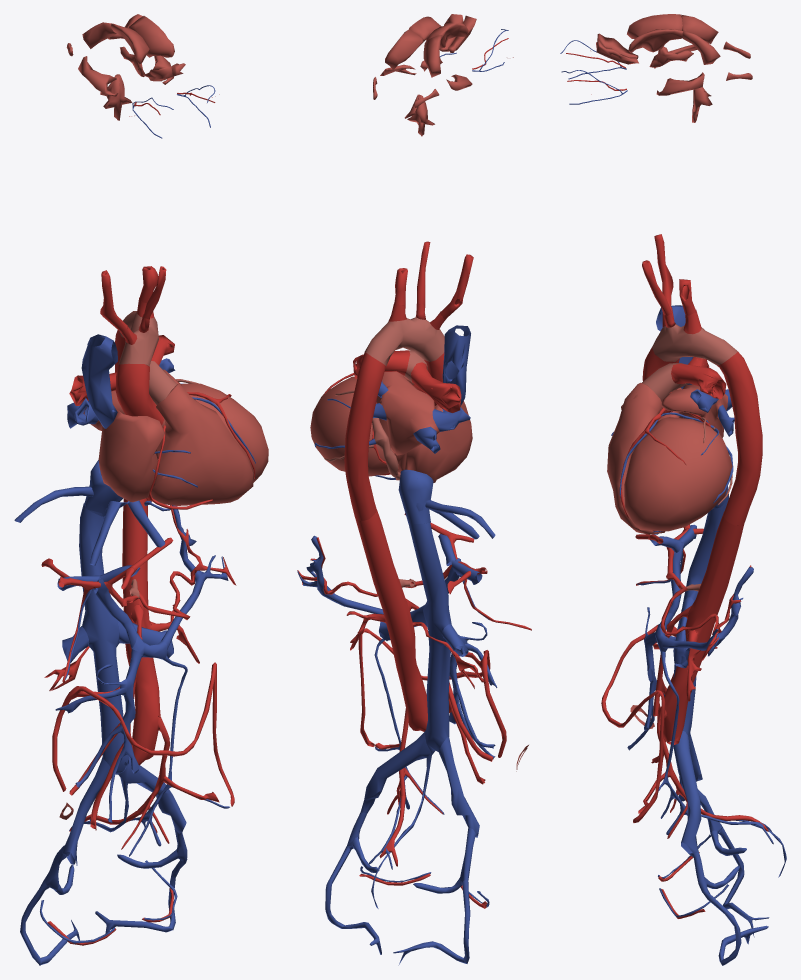
The model's file is adult_female.cardiovascular.LOD3.glb.
3 views of the same model, side by side, from view 1: azimuth 30°, elevation 25°; view 2: azimuth 150°, elevation 25°; view 3: azimuth 270°, elevation 25° (orthographic). The views are drawn at different scales.
Visible parts, largest first — view 1: ADULT.FEMALE.CARDIOVASCULAR.RIGHT_VENTRICLE, ADULT.FEMALE.CARDIOVASCULAR.INFERIOR_VENA_CAVA_B, ADULT.FEMALE.CARDIOVASCULAR.DESCENDING_AORTA_B, ADULT.FEMALE.CARDIOVASCULAR.RIGHT_CARDIAC_ATRIUM, ADULT.FEMALE.CARDIOVASCULAR.LEFT_VENTRICLE, ADULT.FEMALE.CARDIOVASCULAR.SUPERIOR_VENA_CAVA, ADULT.FEMALE.CARDIOVASCULAR.MARGINAL_ARTERY_OF_DRUMMOND, ADULT.FEMALE.CARDIOVASCULAR.ASCENDING_AORTA, ADULT.FEMALE.CARDIOVASCULAR.SPLENIC_VEIN, ADULT.FEMALE.CARDIOVASCULAR.ANTERIOR_HORN_OF_LATERAL_VENTRIC (×2), ADULT.FEMALE.CARDIOVASCULAR.AORTIC_ARCH, ADULT.FEMALE.CARDIOVASCULAR.COMMON_ILIAC_VEIN.L (+15 smaller); view 2: ADULT.FEMALE.CARDIOVASCULAR.DESCENDING_AORTA_B, ADULT.FEMALE.CARDIOVASCULAR.INFERIOR_VENA_CAVA_B, ADULT.FEMALE.CARDIOVASCULAR.DESCENDING_AORTA_A, ADULT.FEMALE.CARDIOVASCULAR.LEFT_CARDIAC_ATRIUM, ADULT.FEMALE.CARDIOVASCULAR.LEFT_VENTRICLE, ADULT.FEMALE.CARDIOVASCULAR.RIGHT_CARDIAC_ATRIUM, ADULT.FEMALE.CARDIOVASCULAR.AORTIC_ARCH, ADULT.FEMALE.CARDIOVASCULAR.INFERIOR_VENA_CAVA_A, ADULT.FEMALE.CARDIOVASCULAR.COMMON_ILIAC_VEIN.L, ADULT.FEMALE.CARDIOVASCULAR.SUPERIOR_VENA_CAVA, ADULT.FEMALE.CARDIOVASCULAR.MARGINAL_ARTERY_OF_DRUMMOND, ADULT.FEMALE.CARDIOVASCULAR.PULMONARY_ARTERY.R (+11 smaller); view 3: ADULT.FEMALE.CARDIOVASCULAR.LEFT_VENTRICLE, ADULT.FEMALE.CARDIOVASCULAR.DESCENDING_AORTA_B, ADULT.FEMALE.CARDIOVASCULAR.DESCENDING_AORTA_A, ADULT.FEMALE.CARDIOVASCULAR.RIGHT_VENTRICLE, ADULT.FEMALE.CARDIOVASCULAR.AORTIC_ARCH, ADULT.FEMALE.CARDIOVASCULAR.INFERIOR_VENA_CAVA_B, ADULT.FEMALE.CARDIOVASCULAR.COMMON_ILIAC_VEIN.L, ADULT.FEMALE.CARDIOVASCULAR.ANTERIOR_HORN_OF_LATERAL_VENTRIC (×2), ADULT.FEMALE.CARDIOVASCULAR.MARGINAL_ARTERY_OF_DRUMMOND, ADULT.FEMALE.CARDIOVASCULAR.SPLENIC_VEIN, ADULT.FEMALE.CARDIOVASCULAR.LEFT_CARDIAC_ATRIUM, ADULT.FEMALE.CARDIOVASCULAR.PULMONARY_ARTERY.L (+13 smaller).
Part boxes in pixels (left/top/right/bottom): ADULT.FEMALE.CARDIOVASCULAR.RIGHT_VENTRICLE: left=148, top=384, right=253, bottom=505; ADULT.FEMALE.CARDIOVASCULAR.INFERIOR_VENA_CAVA_B: left=79, top=503, right=129, bottom=774; ADULT.FEMALE.CARDIOVASCULAR.DESCENDING_AORTA_B: left=122, top=498, right=160, bottom=765; ADULT.FEMALE.CARDIOVASCULAR.RIGHT_CARDIAC_ATRIUM: left=98, top=408, right=164, bottom=502; ADULT.FEMALE.CARDIOVASCULAR.LEFT_VENTRICLE: left=181, top=383, right=268, bottom=482; ADULT.FEMALE.CARDIOVASCULAR.SUPERIOR_VENA_CAVA: left=81, top=334, right=117, bottom=428; ADULT.FEMALE.CARDIOVASCULAR.MARGINAL_ARTERY_OF_DRUMMOND: left=52, top=662, right=234, bottom=806; ADULT.FEMALE.CARDIOVASCULAR.ASCENDING_AORTA: left=115, top=363, right=163, bottom=424; ADULT.FEMALE.CARDIOVASCULAR.SPLENIC_VEIN: left=132, top=505, right=228, bottom=659; ADULT.FEMALE.CARDIOVASCULAR.ANTERIOR_HORN_OF_LATERAL_VENTRIC (×2): left=110, top=16, right=174, bottom=64; ADULT.FEMALE.CARDIOVASCULAR.AORTIC_ARCH: left=118, top=311, right=158, bottom=366; ADULT.FEMALE.CARDIOVASCULAR.COMMON_ILIAC_VEIN.L: left=118, top=757, right=186, bottom=833; ADULT.FEMALE.CARDIOVASCULAR.DESCENDING_AORTA_B: left=355, top=509, right=427, bottom=731; ADULT.FEMALE.CARDIOVASCULAR.INFERIOR_VENA_CAVA_B: left=408, top=522, right=451, bottom=752; ADULT.FEMALE.CARDIOVASCULAR.DESCENDING_AORTA_A: left=344, top=352, right=385, bottom=520; ADULT.FEMALE.CARDIOVASCULAR.LEFT_CARDIAC_ATRIUM: left=376, top=371, right=439, bottom=455; ADULT.FEMALE.CARDIOVASCULAR.LEFT_VENTRICLE: left=310, top=376, right=394, bottom=476; ADULT.FEMALE.CARDIOVASCULAR.RIGHT_CARDIAC_ATRIUM: left=394, top=401, right=472, bottom=482; ADULT.FEMALE.CARDIOVASCULAR.AORTIC_ARCH: left=364, top=317, right=444, bottom=365; ADULT.FEMALE.CARDIOVASCULAR.INFERIOR_VENA_CAVA_A: left=398, top=469, right=433, bottom=523; ADULT.FEMALE.CARDIOVASCULAR.COMMON_ILIAC_VEIN.L: left=360, top=730, right=430, bottom=812; ADULT.FEMALE.CARDIOVASCULAR.SUPERIOR_VENA_CAVA: left=442, top=325, right=470, bottom=411; ADULT.FEMALE.CARDIOVASCULAR.MARGINAL_ARTERY_OF_DRUMMOND: left=358, top=628, right=506, bottom=757; ADULT.FEMALE.CARDIOVASCULAR.PULMONARY_ARTERY.R: left=411, top=362, right=461, bottom=412; ADULT.FEMALE.CARDIOVASCULAR.LEFT_VENTRICLE: left=624, top=417, right=732, bottom=531; ADULT.FEMALE.CARDIOVASCULAR.DESCENDING_AORTA_B: left=663, top=512, right=744, bottom=744; ADULT.FEMALE.CARDIOVASCULAR.DESCENDING_AORTA_A: left=717, top=352, right=762, bottom=525; ADULT.FEMALE.CARDIOVASCULAR.RIGHT_VENTRICLE: left=607, top=382, right=665, bottom=534; ADULT.FEMALE.CARDIOVASCULAR.AORTIC_ARCH: left=652, top=324, right=737, bottom=365; ADULT.FEMALE.CARDIOVASCULAR.INFERIOR_VENA_CAVA_B: left=673, top=496, right=728, bottom=738; ADULT.FEMALE.CARDIOVASCULAR.COMMON_ILIAC_VEIN.L: left=673, top=731, right=701, bottom=853; ADULT.FEMALE.CARDIOVASCULAR.ANTERIOR_HORN_OF_LATERAL_VENTRIC (×2): left=627, top=14, right=683, bottom=53; ADULT.FEMALE.CARDIOVASCULAR.MARGINAL_ARTERY_OF_DRUMMOND: left=601, top=625, right=677, bottom=822; ADULT.FEMALE.CARDIOVASCULAR.SPLENIC_VEIN: left=655, top=567, right=753, bottom=656; ADULT.FEMALE.CARDIOVASCULAR.LEFT_CARDIAC_ATRIUM: left=661, top=384, right=727, bottom=437; ADULT.FEMALE.CARDIOVASCULAR.PULMONARY_ARTERY.L: left=671, top=363, right=726, bottom=398.
Bounding box in the file's own units: 0.1974 × 0.829 × 0.1849.
